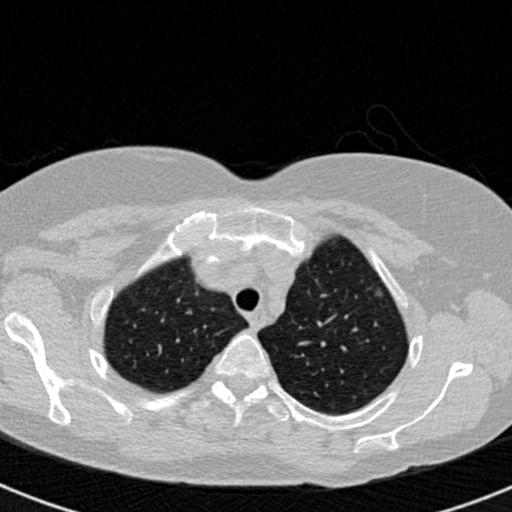nodule: (372, 286, 387, 301)
